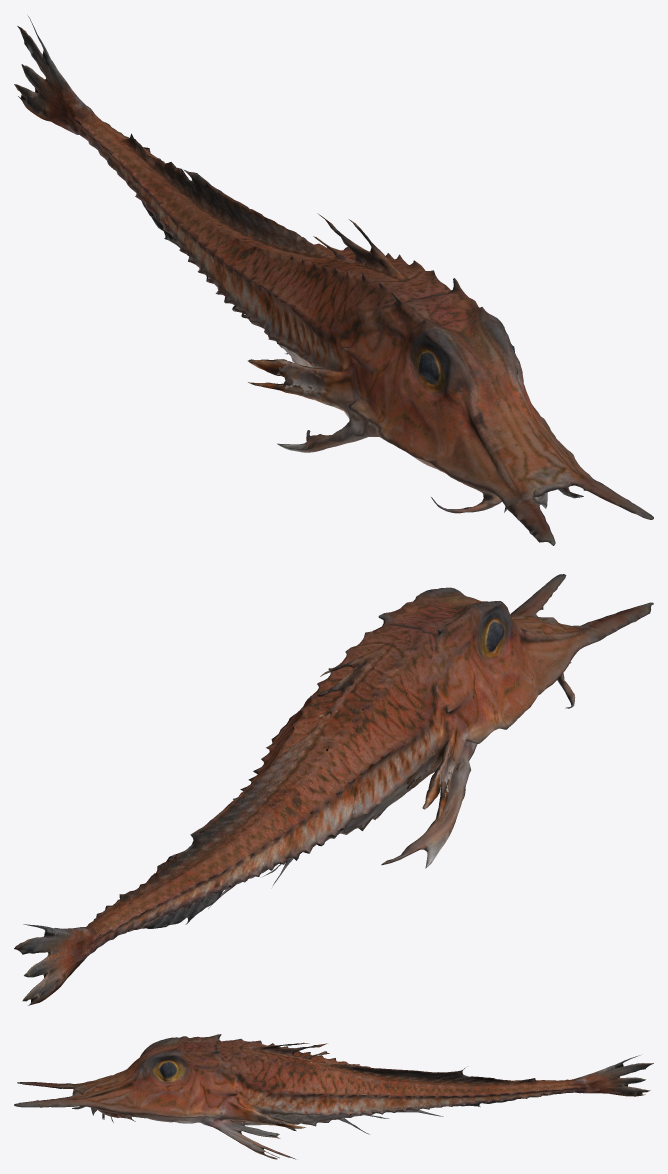
Rendered from armored_searobin.glb.
3 renders of one model, top to bottom at view 1: azimuth 30°, elevation 25°; view 2: azimuth 150°, elevation 25°; view 3: azimuth 270°, elevation 25°, orthographic. The views are drawn at different scales.
Visible parts, largest first — view 1: armored_searobin; view 2: armored_searobin; view 3: armored_searobin.
Part boxes in pixels (x1,y1,x2,y2): armored_searobin: (14,16,653,545); armored_searobin: (14,574,653,1005); armored_searobin: (14,1034,653,1159).
Bounding box in the file's own units: 0.044 × 0.0387 × 0.2197.
1 material, 1 textured.
